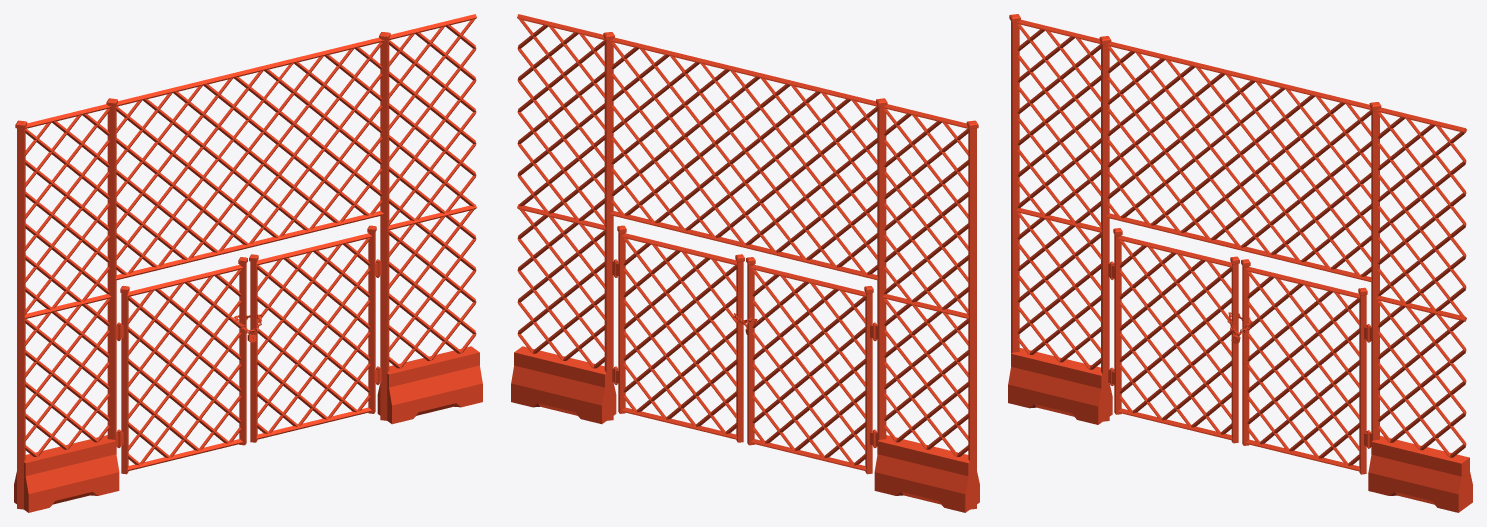
Rendered from SM_Fence_Construction_Gate_Tall_City.fbx.
3 renders of one model, left to right at view 1: azimuth 30°, elevation 25°; view 2: azimuth 150°, elevation 25°; view 3: azimuth 330°, elevation 25°, orthographic.
Visible parts, largest first — view 1: SM_Fence_Construction_Gate_Tall_City_Base, SM_Fence_Construction_Gate_Tall_City_Door_R, SM_Fence_Construction_Gate_Tall_City_Door_L; view 2: SM_Fence_Construction_Gate_Tall_City_Base, SM_Fence_Construction_Gate_Tall_City_Door_L, SM_Fence_Construction_Gate_Tall_City_Door_R; view 3: SM_Fence_Construction_Gate_Tall_City_Base, SM_Fence_Construction_Gate_Tall_City_Door_L, SM_Fence_Construction_Gate_Tall_City_Door_R.
Boxes of the visible parts, x1,y1,x2,y2 form: SM_Fence_Construction_Gate_Tall_City_Base: (14,14,482,512); SM_Fence_Construction_Gate_Tall_City_Door_R: (117,257,247,474); SM_Fence_Construction_Gate_Tall_City_Door_L: (249,225,379,442); SM_Fence_Construction_Gate_Tall_City_Base: (511,14,979,512); SM_Fence_Construction_Gate_Tall_City_Door_L: (614,225,744,442); SM_Fence_Construction_Gate_Tall_City_Door_R: (746,257,876,474); SM_Fence_Construction_Gate_Tall_City_Base: (1008,14,1472,512); SM_Fence_Construction_Gate_Tall_City_Door_L: (1241,259,1370,474); SM_Fence_Construction_Gate_Tall_City_Door_R: (1110,228,1239,443).
Size of the model in its own units: 5.06 by 4.05 by 0.2748.
